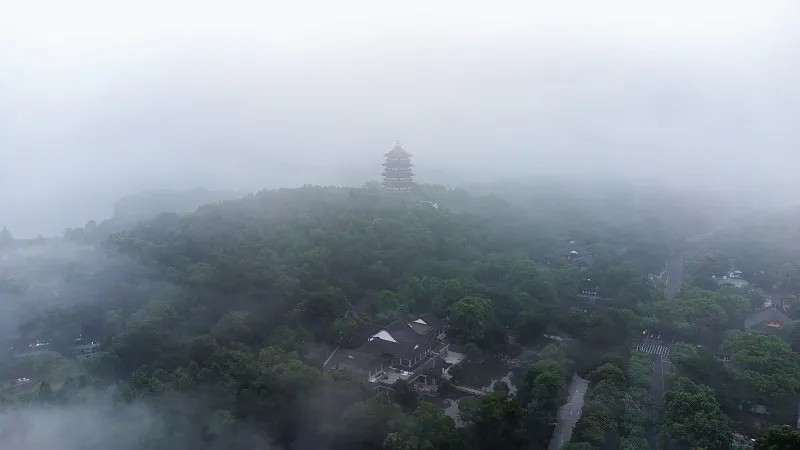Leifeng: (379, 139, 416, 194)
